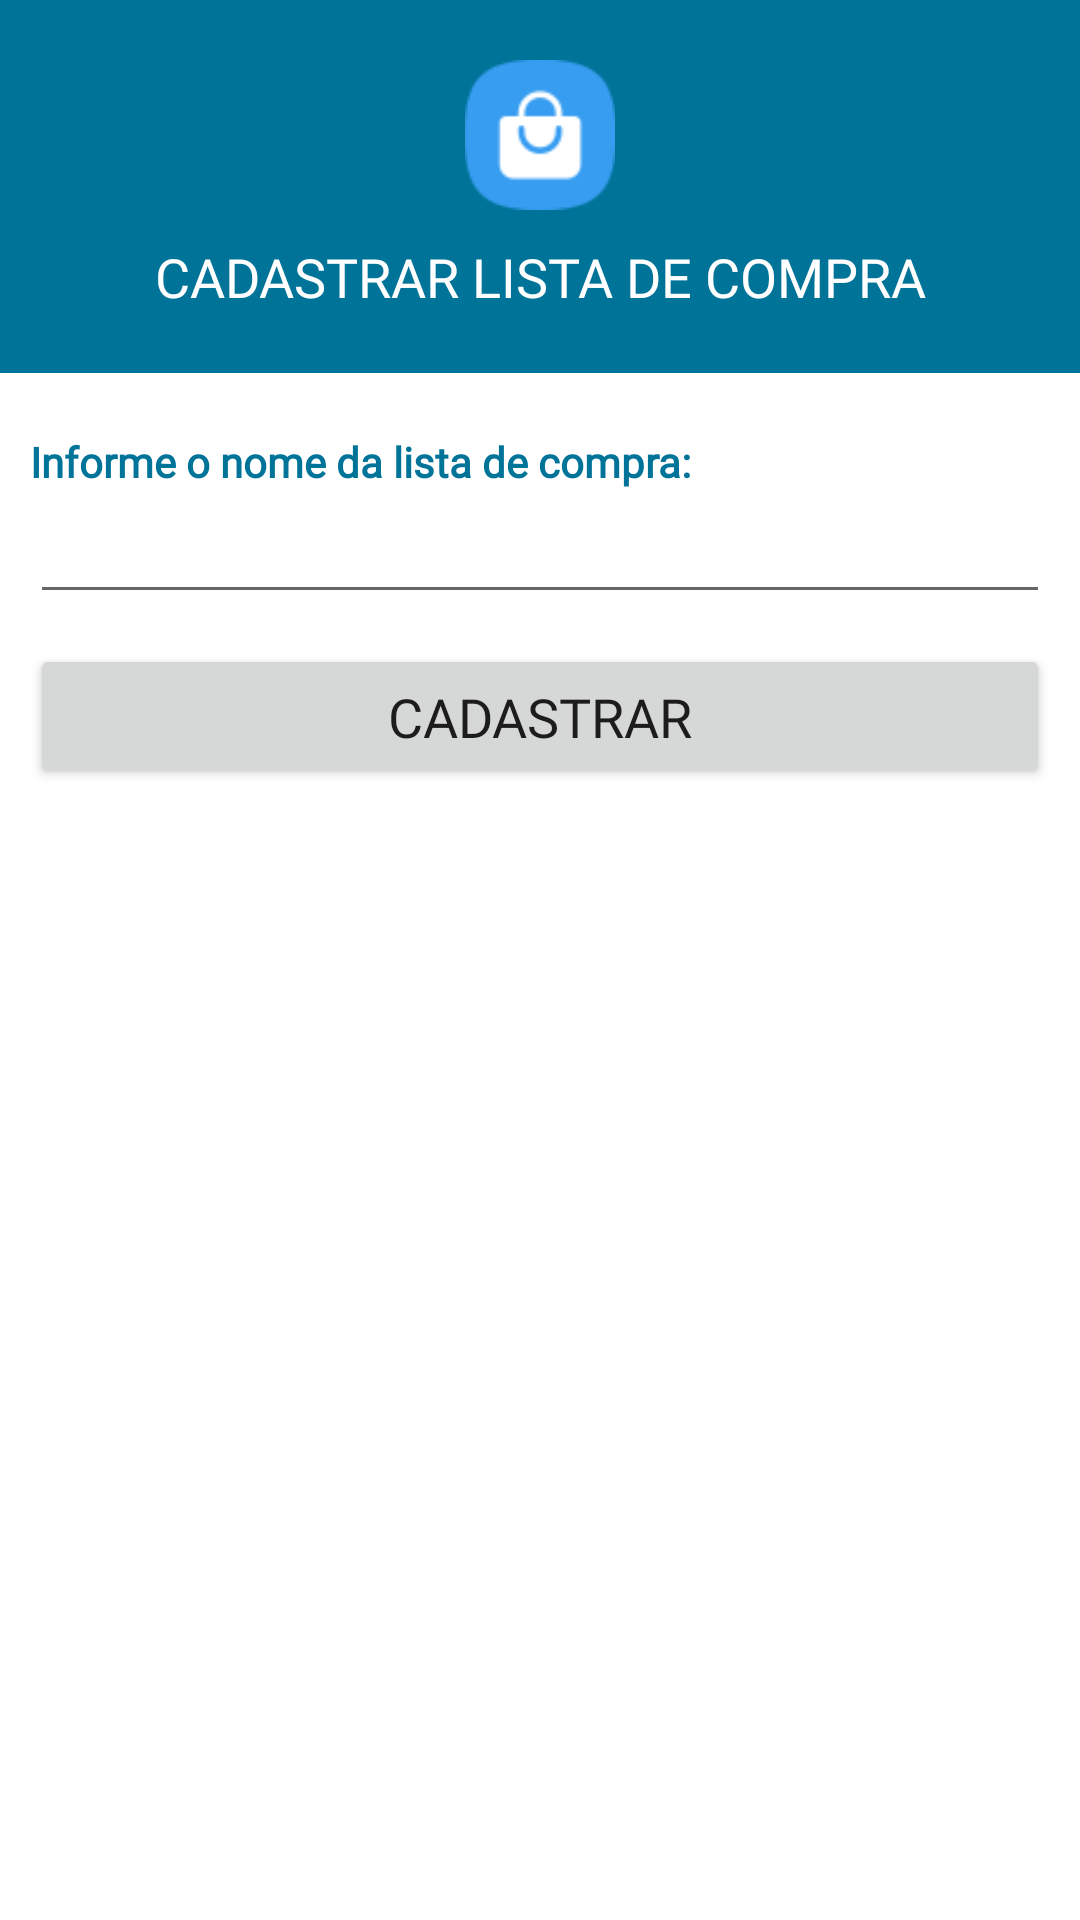

Named icons in this screenshot (1080x1920) and their bounding boxes, (x1, y1, x2, y2):
sacola compra: (465, 60, 615, 210)
